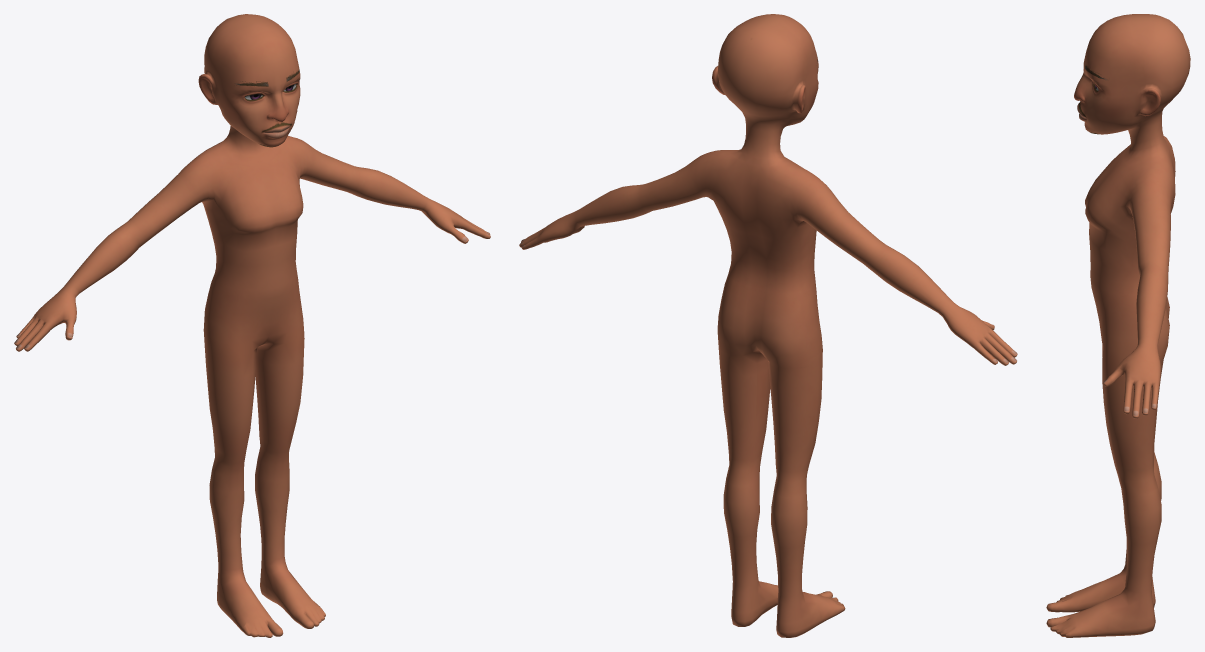
File: frame_0051.glb
The picture shows the model from 3 angles, left to right: view 1: azimuth 30°, elevation 25°; view 2: azimuth 150°, elevation 25°; view 3: azimuth 270°, elevation 25°; orthographic projection. The views are drawn at different scales.
Parts seen in each view (by area): view 1: frame_0051_head_geo; view 2: frame_0051_head_geo; view 3: frame_0051_head_geo.
Boxes of the visible parts, <box> form: frame_0051_head_geo: <box>14,14,490,637</box>; frame_0051_head_geo: <box>519,14,1017,637</box>; frame_0051_head_geo: <box>1046,14,1190,637</box>.
Bounding box in the file's own units: 1.28 × 1.5 × 0.3253.
Materials: 3 (3 with a texture image).
